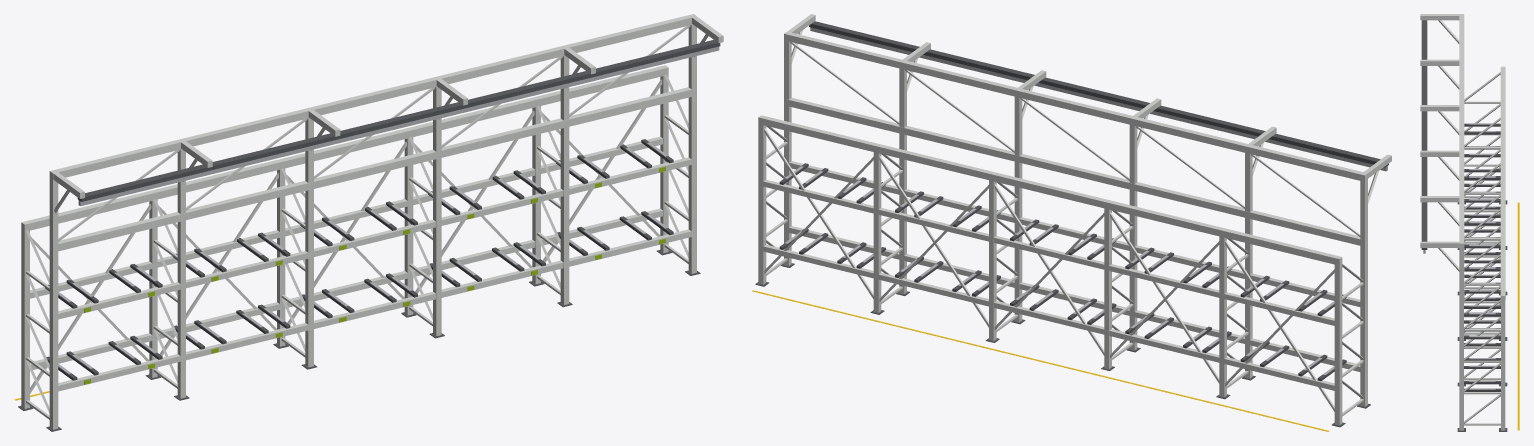
The model's file is pallet_rack_2L_10S.glb.
3 renders of one model, left to right at view 1: azimuth 30°, elevation 25°; view 2: azimuth 150°, elevation 25°; view 3: azimuth 270°, elevation 25°, orthographic. The views are drawn at different scales.
Visible parts, largest first — view 1: rack_frame__truss_white, rack_frame__steel_dark, rack_frame__steel, rack_frame__lime; view 2: rack_frame__truss_white, rack_frame__steel_dark, rack_frame__steel, rack_frame__yellow; view 3: rack_frame__truss_white, rack_frame__steel_dark, rack_frame__steel, rack_frame__yellow.
Part boxes in pixels (x1,y1,x2,y2): rack_frame__truss_white: [21, 14, 723, 429]; rack_frame__steel_dark: [18, 40, 720, 431]; rack_frame__steel: [58, 46, 719, 374]; rack_frame__lime: [84, 166, 665, 384]; rack_frame__truss_white: [758, 14, 1391, 425]; rack_frame__steel_dark: [755, 21, 1388, 427]; rack_frame__steel: [784, 27, 1387, 375]; rack_frame__yellow: [752, 290, 1328, 431]; rack_frame__truss_white: [1420, 14, 1505, 430]; rack_frame__steel_dark: [1421, 20, 1507, 431]; rack_frame__steel: [1423, 123, 1495, 389]; rack_frame__yellow: [1517, 202, 1519, 430].
Size of the model in its own units: 13.2 by 5 by 2.4.
